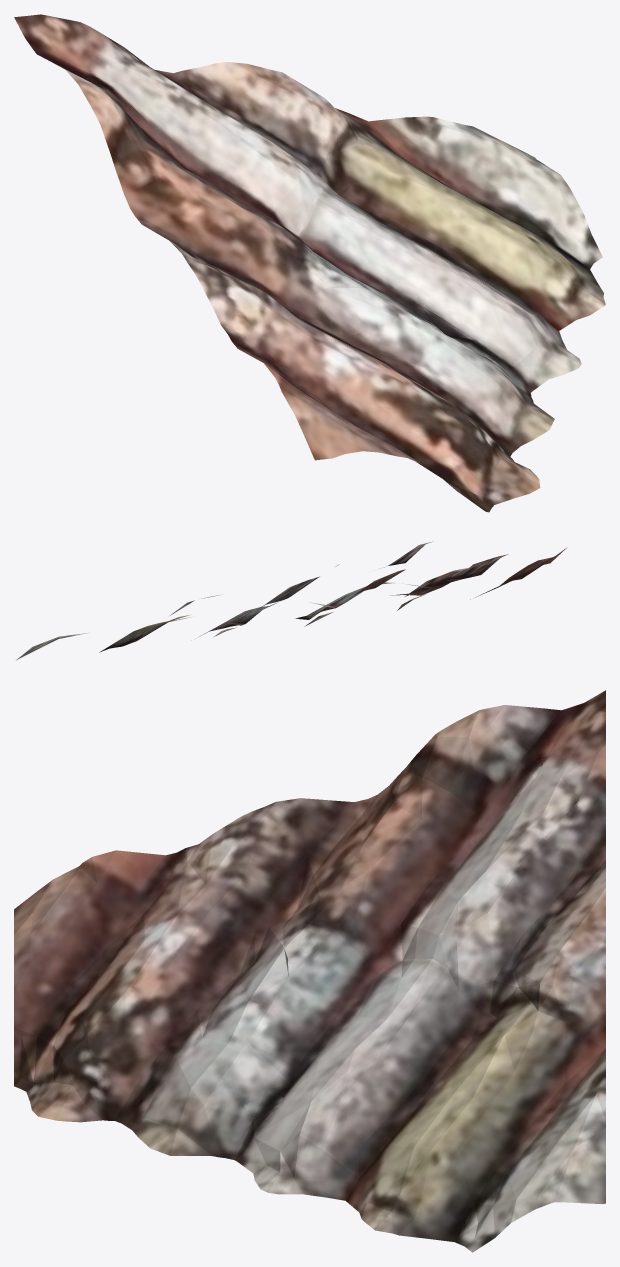
The picture shows the model from 3 angles, top to bottom: view 1: azimuth 30°, elevation 25°; view 2: azimuth 150°, elevation 25°; view 3: azimuth 270°, elevation 25°; orthographic projection. The views are drawn at different scales.
Size of the model in its own units: 0.8374 by 0.4876 by 0.8374.
2 materials, 2 textured.
